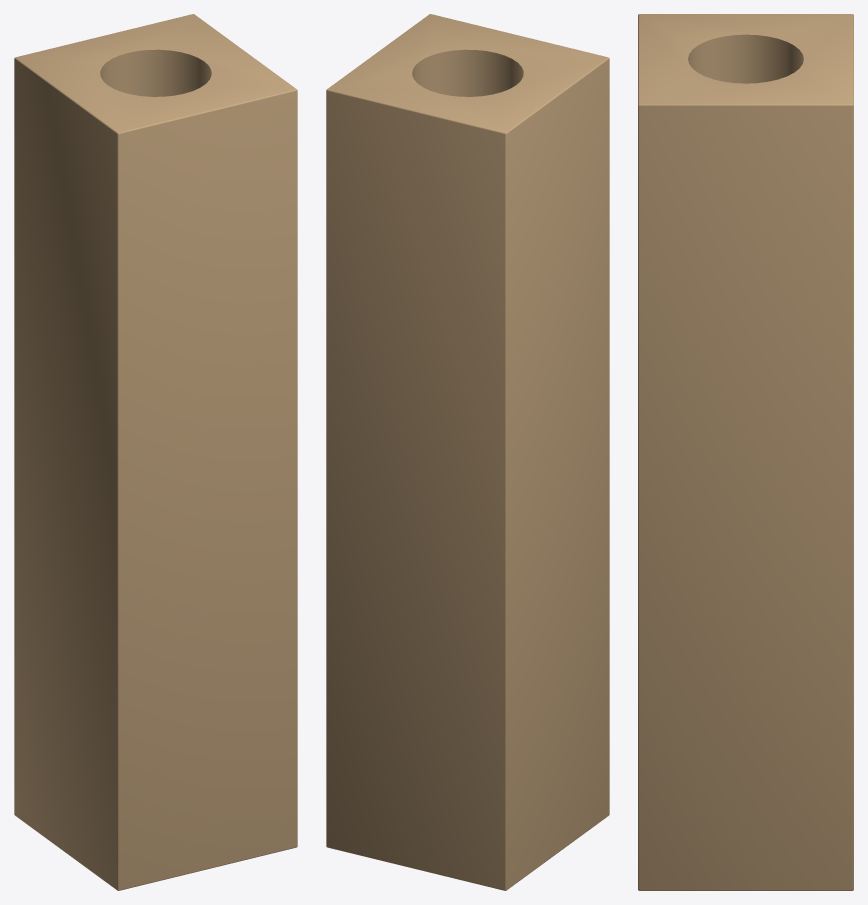
File: blk_pillar_h4.glb
3 renders of one model, left to right at view 1: azimuth 30°, elevation 25°; view 2: azimuth 150°, elevation 25°; view 3: azimuth 270°, elevation 25°, orthographic. The views are drawn at different scales.
Visible parts, largest first — view 1: blk_pillar_h4_lod0; view 2: blk_pillar_h4_lod0; view 3: blk_pillar_h4_lod0.
Part boxes in pixels (box(x1,y1,x2,y2)): blk_pillar_h4_lod0: box(14, 14, 297, 890); blk_pillar_h4_lod0: box(326, 14, 609, 890); blk_pillar_h4_lod0: box(638, 14, 853, 890).
Size of what is drawn, in the model's own units: 0.0596 by 0.2396 by 0.0596.
